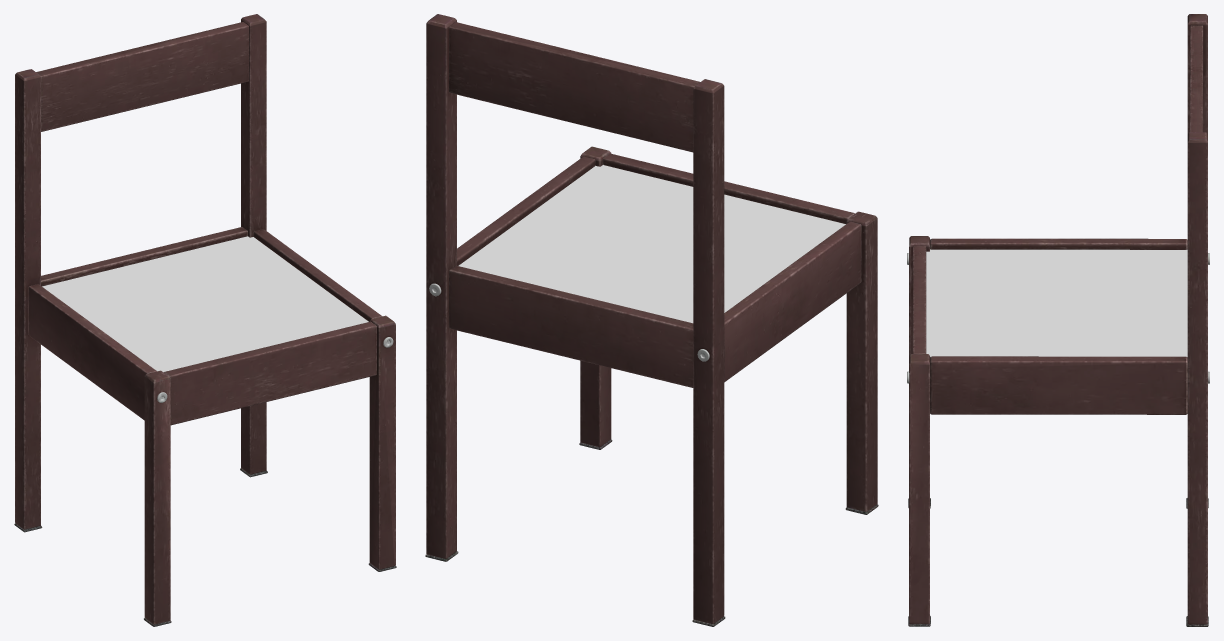
The model's file is kids_chair_abo_B07YBHB9RL.glb.
The picture shows the model from 3 angles, left to right: view 1: azimuth 30°, elevation 25°; view 2: azimuth 150°, elevation 25°; view 3: azimuth 270°, elevation 25°; orthographic projection. The views are drawn at different scales.
Visible parts, largest first — view 1: RootNode; view 2: RootNode; view 3: RootNode.
Boxes of the visible parts, x1,y1,x2,y2 form: RootNode: (14,14,396,626); RootNode: (425,14,878,626); RootNode: (907,14,1209,626).
Size of the model in its own units: 0.2849 by 0.5053 by 0.285.
1 material, 1 textured.
